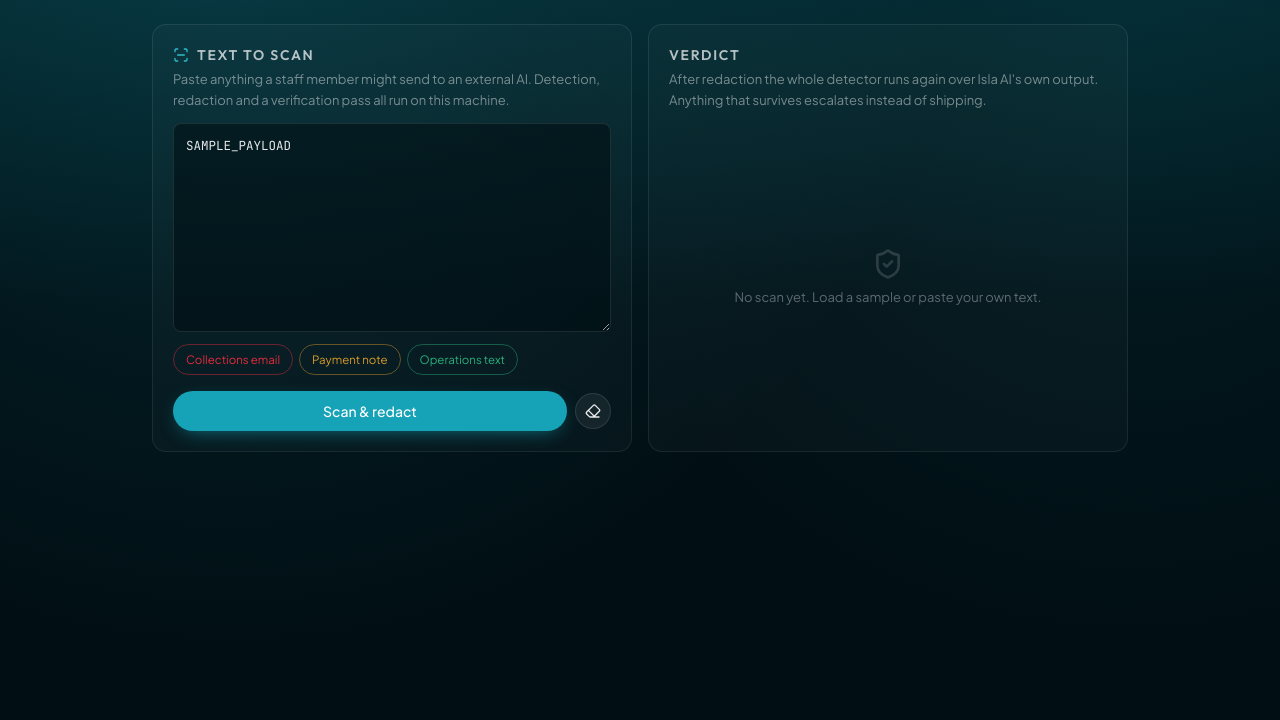
Test: EgressGuard › clears the text, the verdict and the error together
The width and height of the screenshot is (1280, 720).
Replace the text in the text box named "Text to scan for personal information" with "secret" at (392, 228), box top-left (173, 123), bottom-right (611, 332)
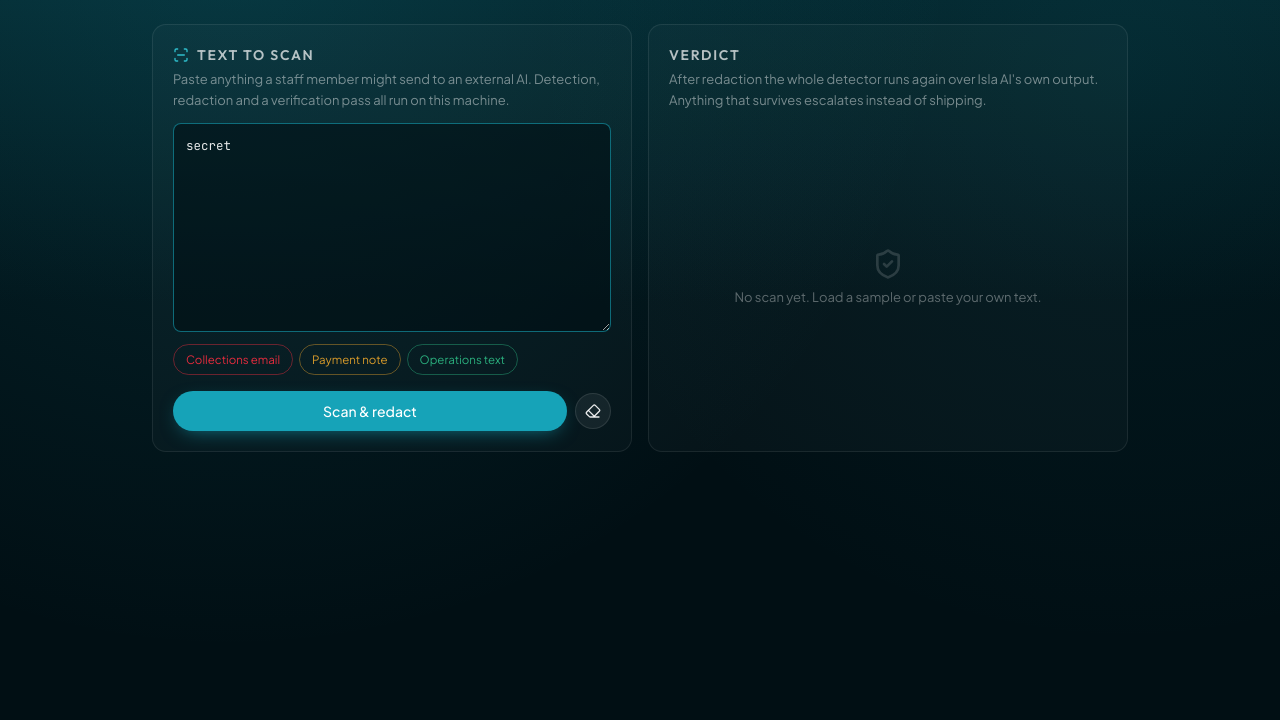
Click the button "Scan & redact" at (370, 411), box top-left (173, 391), bottom-right (567, 431)
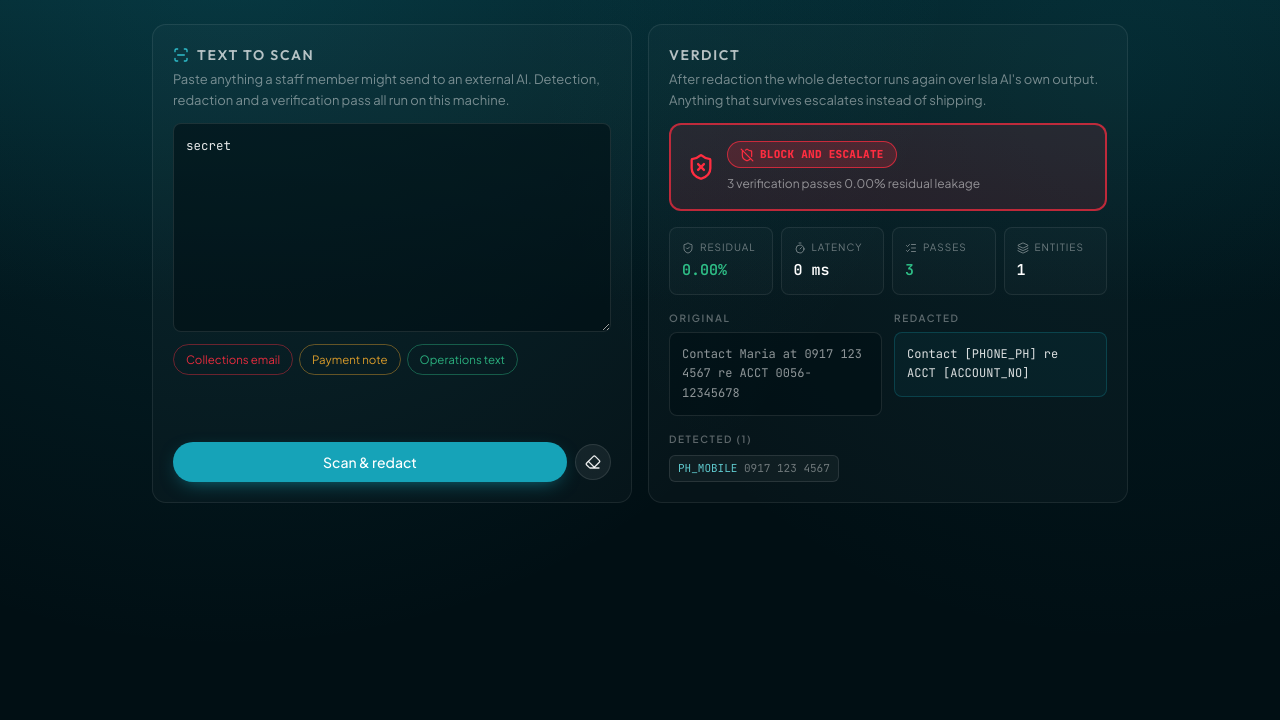
Result: the text "Contact Maria at 0917 123 4567 re ACCT 0056-12345678" is shown at top-left (669, 332), bottom-right (882, 416)
Click the button named "Clear" at (593, 462), box top-left (575, 444), bottom-right (611, 480)
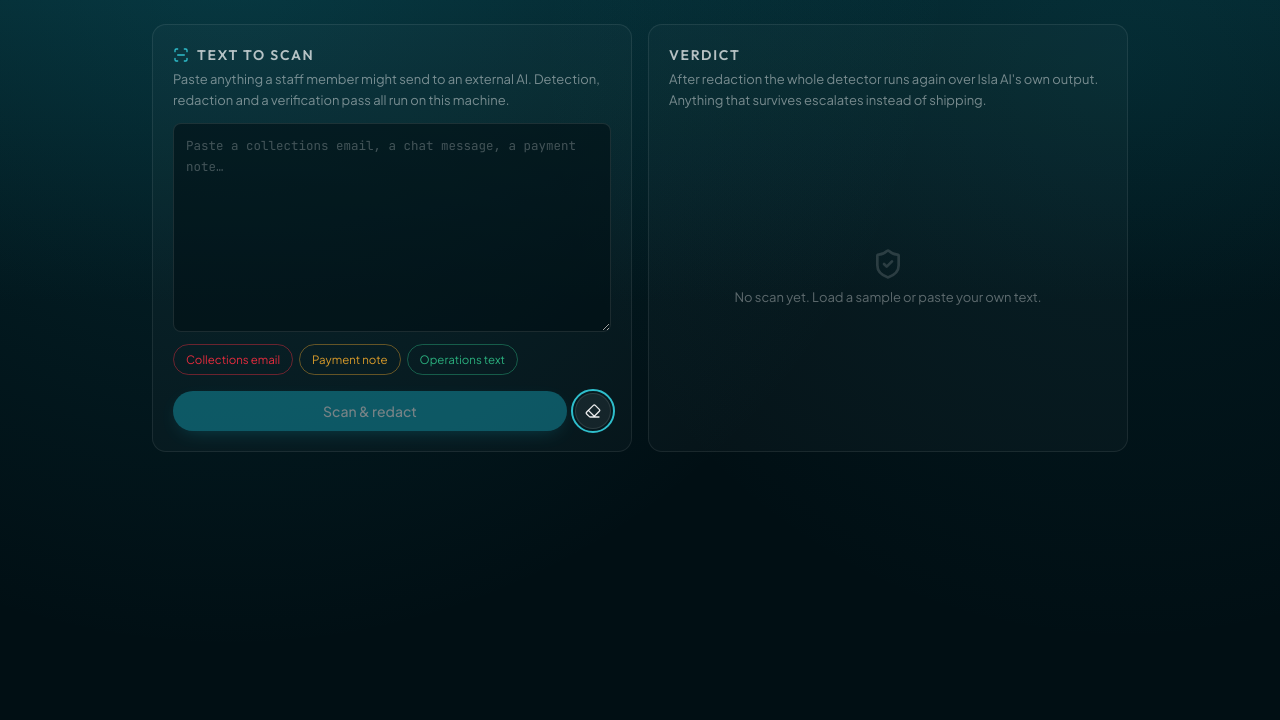
Result: the text with test id "pane-original" is gone
Result: the text "No scan yet. Load a sample or paste your own text." is shown at top-left (734, 288), bottom-right (1042, 307)
